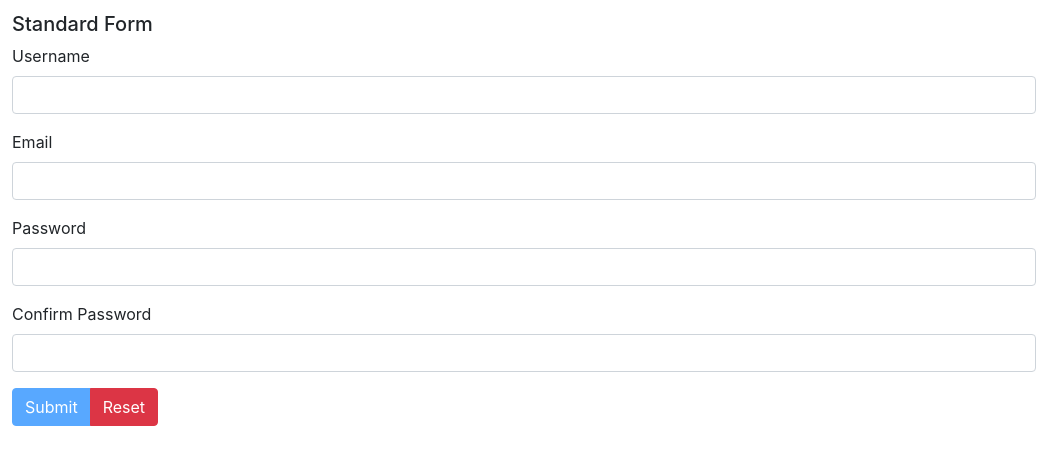
Scenario: StandardForm › validates email correctly
The width and height of the screenshot is (1048, 467).
In the field labelled "Email": (524,181) left=12, top=162, right=1036, bottom=200, type "invalidemail"
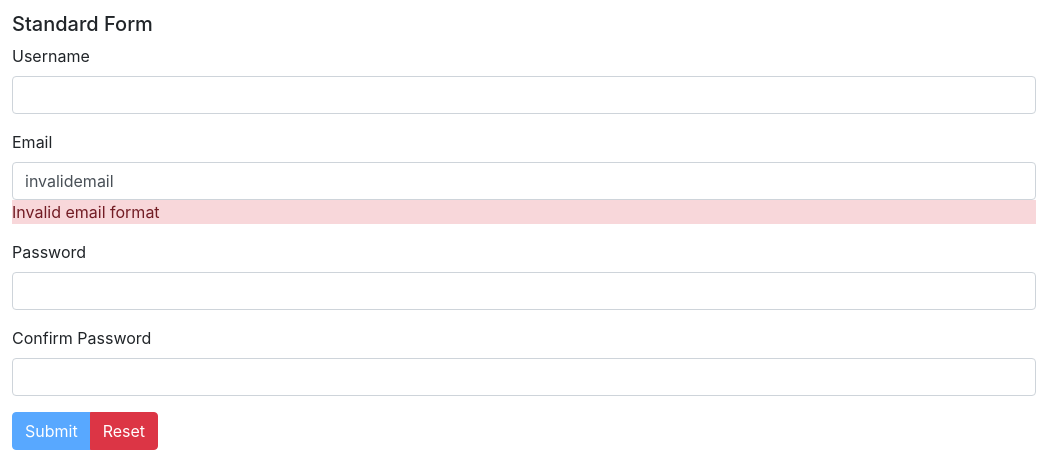
Now the text "Invalid email format" is shown, box left=12, top=200, right=1036, bottom=224
Replace the text in the field labelled "Email" with "valid@email.com": (524,181) left=12, top=162, right=1036, bottom=200
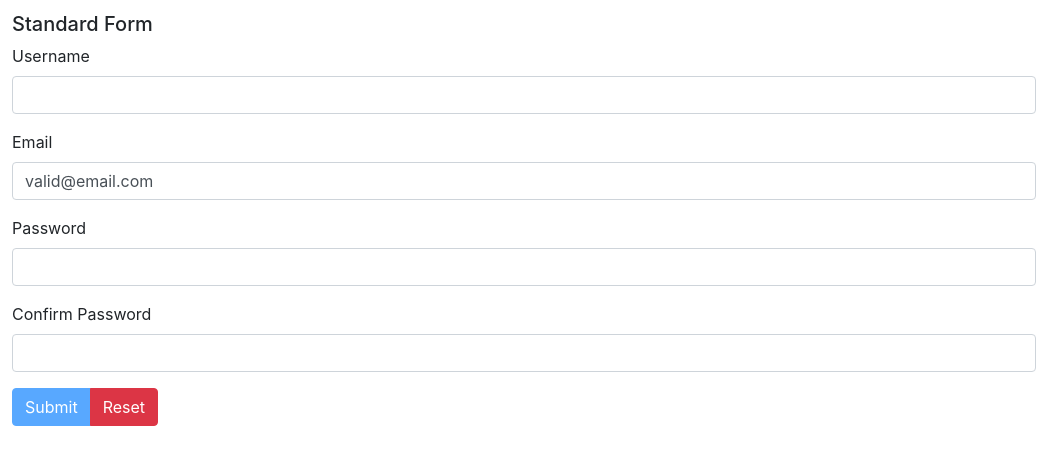
Now the text "Invalid email format" is gone
